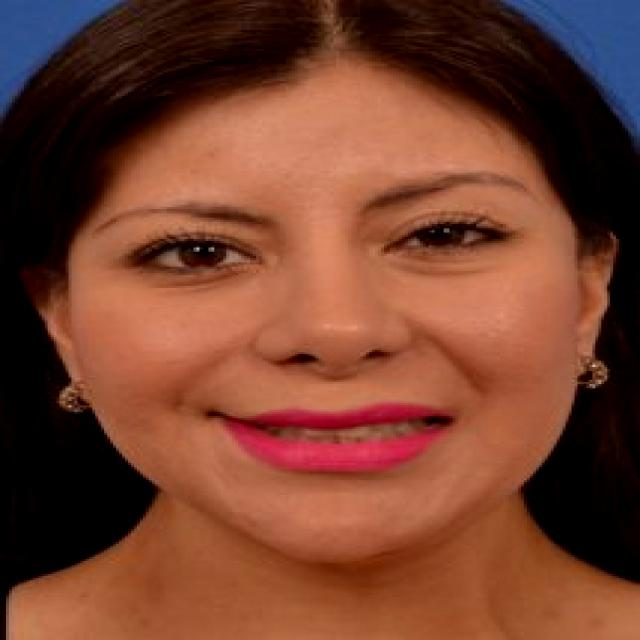stroke_face: (54, 46, 609, 563)
